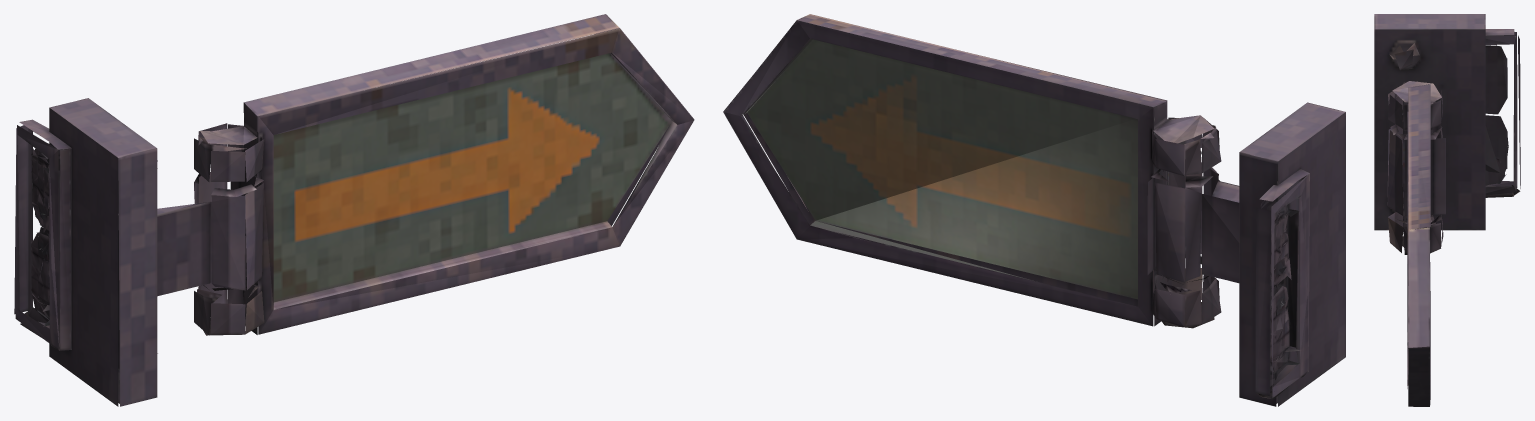
The model's file is PRP_ROUTE_SIGN_SET.fbx.
3 renders of one model, left to right at view 1: azimuth 30°, elevation 25°; view 2: azimuth 150°, elevation 25°; view 3: azimuth 270°, elevation 25°, orthographic. The views are drawn at different scales.
Parts seen in each view (by area): view 1: PRP_ROUTE_SIGN_SET_Body; view 2: PRP_ROUTE_SIGN_SET_Body; view 3: PRP_ROUTE_SIGN_SET_Body.
Part boxes in pixels (bbox=[...]): PRP_ROUTE_SIGN_SET_Body: bbox=[14, 14, 694, 406]; PRP_ROUTE_SIGN_SET_Body: bbox=[723, 14, 1345, 406]; PRP_ROUTE_SIGN_SET_Body: bbox=[1374, 14, 1520, 406].
Bounding box in the file's own units: 64.2 × 24.93 × 16.45.
1 material, 1 textured.
